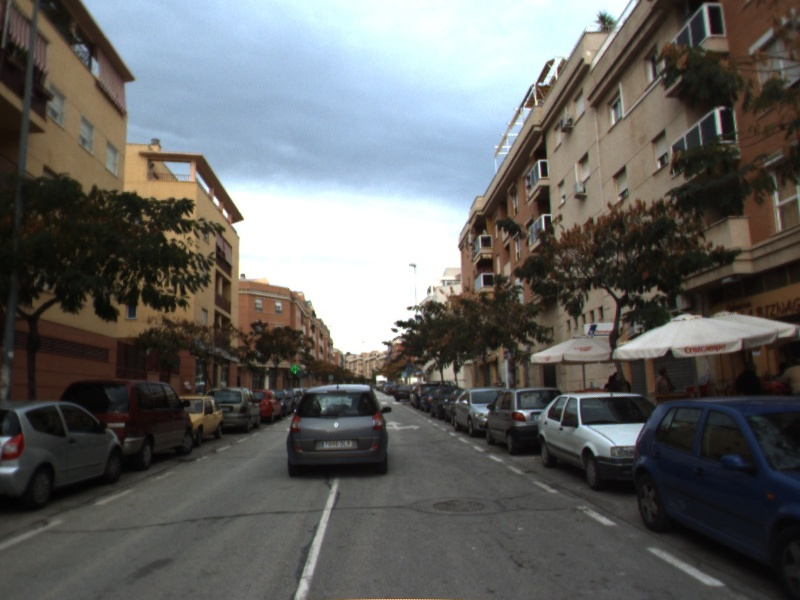STRAIGHT_RIGHT: (384, 419, 423, 432)
